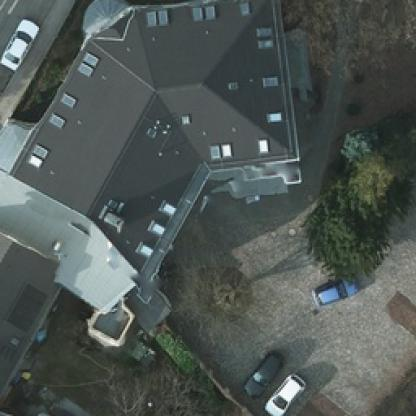car: (0, 14, 38, 72), (240, 348, 282, 396), (310, 271, 358, 307), (265, 370, 304, 414)
